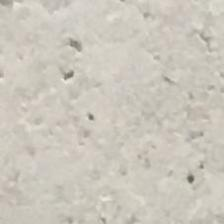Non_Crack: (31, 92, 224, 210)
